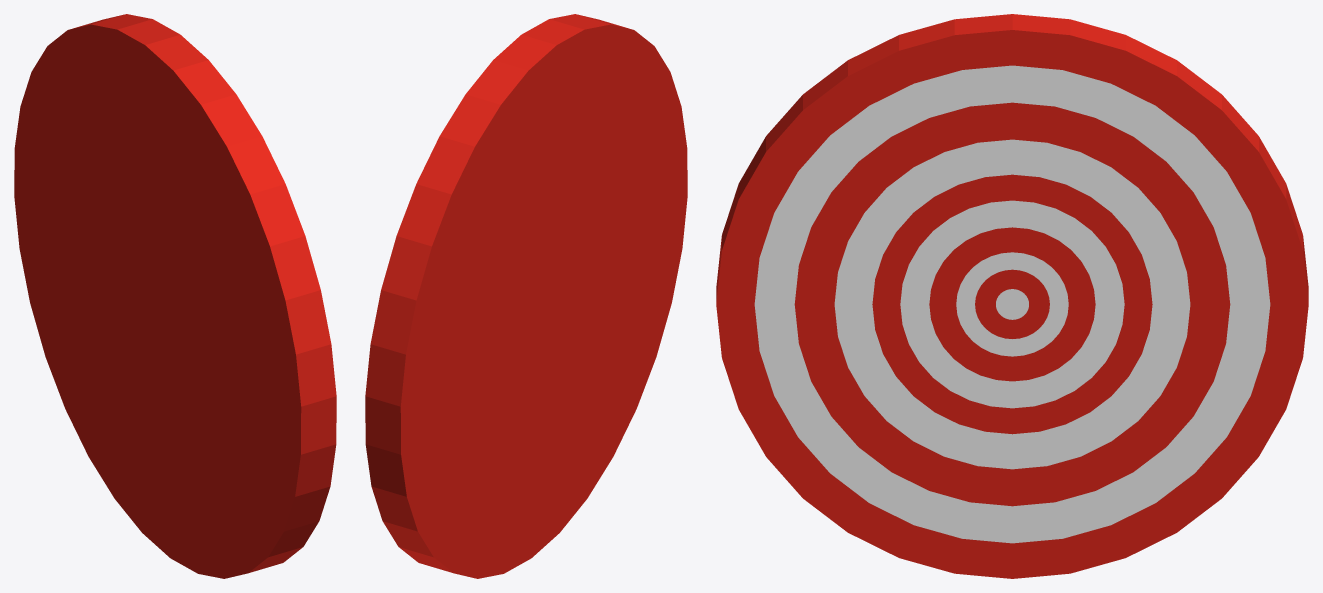
File: alvo.fbx
The picture shows the model from 3 angles, left to right: view 1: azimuth 30°, elevation 25°; view 2: azimuth 150°, elevation 25°; view 3: azimuth 270°, elevation 25°; orthographic projection. The views are drawn at different scales.
Parts seen in each view (by area): view 1: Cylinder; view 2: Cylinder; view 3: Cylinder.
Boxes of the visible parts, bbox=[...] form: Cylinder: bbox=[14, 14, 336, 578]; Cylinder: bbox=[365, 14, 687, 578]; Cylinder: bbox=[716, 14, 1308, 578].
Bounding box in the file's own units: 24.42 × 200 × 200.
